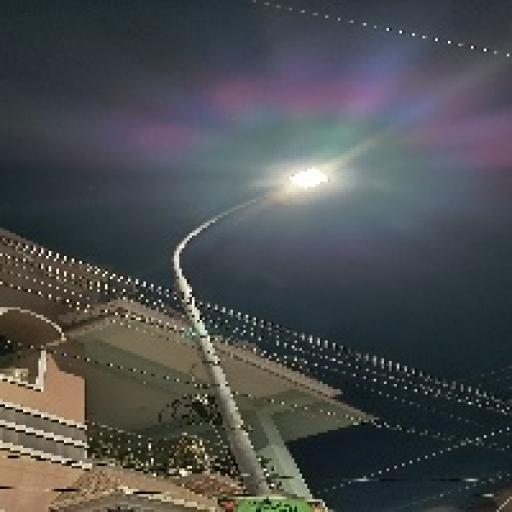Working: (270, 160, 342, 202)
